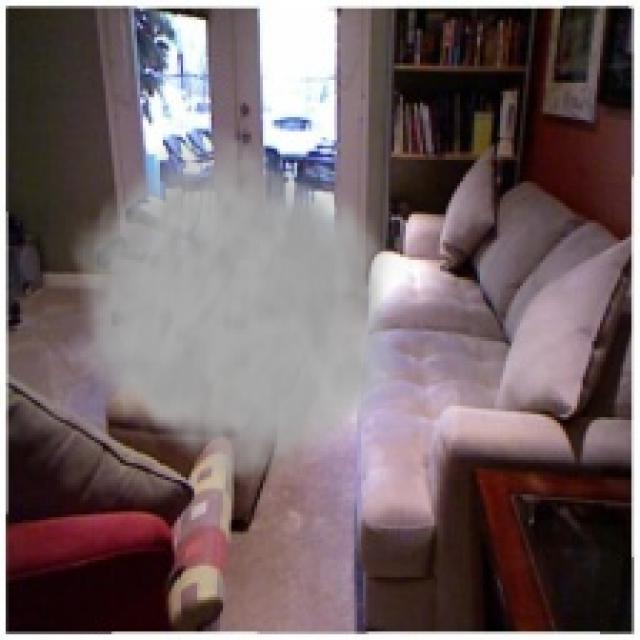Smoke: (68, 120, 414, 494)
